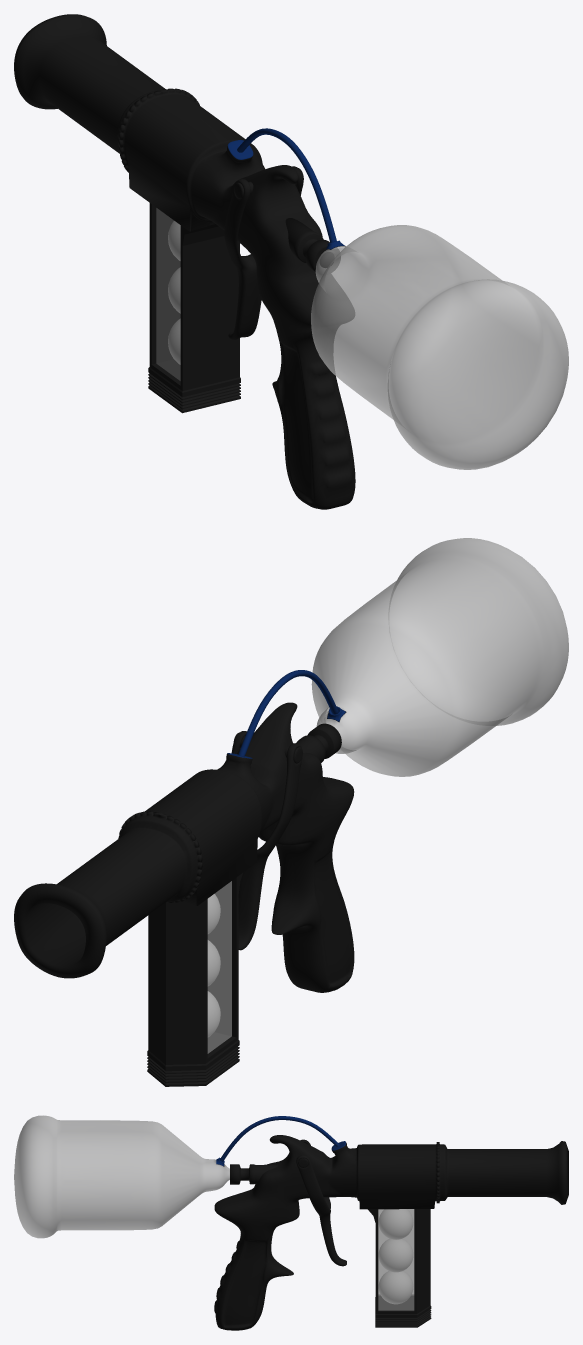
Rendered from ballpistol.obj.
3 renders of one model, top to bottom at view 1: azimuth 30°, elevation 25°; view 2: azimuth 150°, elevation 25°; view 3: azimuth 270°, elevation 25°, orthographic. The views are drawn at different scales.
Visible parts, largest first — view 1: Cube.001, Cylinder.003, Cube_Cube.002, Cube.002_Cube.003, Cylinder.002; view 2: Cube.001, Cylinder.003, Cube_Cube.002, Cube.002_Cube.003, Cylinder.002; view 3: Cube.001, Cylinder.003, Cube_Cube.002, Cube.002_Cube.003, Sphere.001, Sphere, Sphere.002, Cylinder.002.
Boxes of the visible parts, x1,y1,x2,y2 form: Cube.001: (14,14,355,509); Cylinder.003: (311,225,568,469); Cube_Cube.002: (148,203,240,413); Cube.002_Cube.003: (224,128,336,339); Cylinder.002: (285,218,340,274); Cube.001: (14,702,354,992); Cylinder.003: (311,538,568,776); Cube_Cube.002: (147,873,242,1086); Cube.002_Cube.003: (231,670,338,950); Cylinder.002: (296,723,341,762); Cube.001: (214,1135,568,1330); Cylinder.003: (14,1115,229,1238); Cube_Cube.002: (368,1209,431,1327); Cube.002_Cube.003: (220,1116,346,1266); Sphere.001: (379,1239,412,1271); Sphere: (379,1271,413,1303); Sphere.002: (379,1209,413,1239); Cylinder.002: (230,1164,277,1184).
Bounding box in the file's own units: 2.55 × 4.78 × 11.53.
